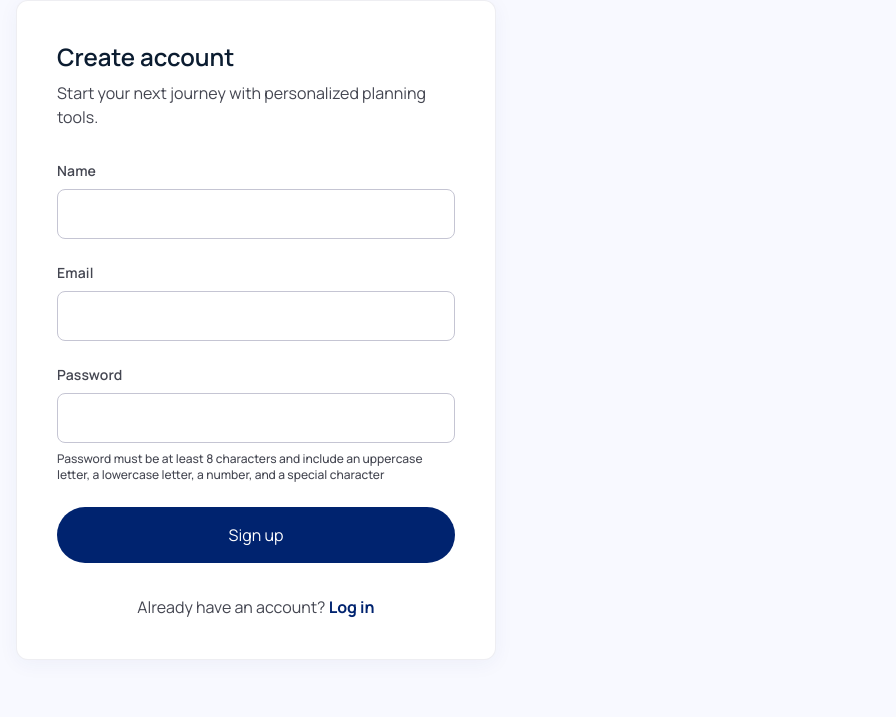
Test: RegisterPage › shows the server error message for a duplicate email
Type "Jane" into the field labelled "Name" at (256, 214), box 57,189 -> 455,239
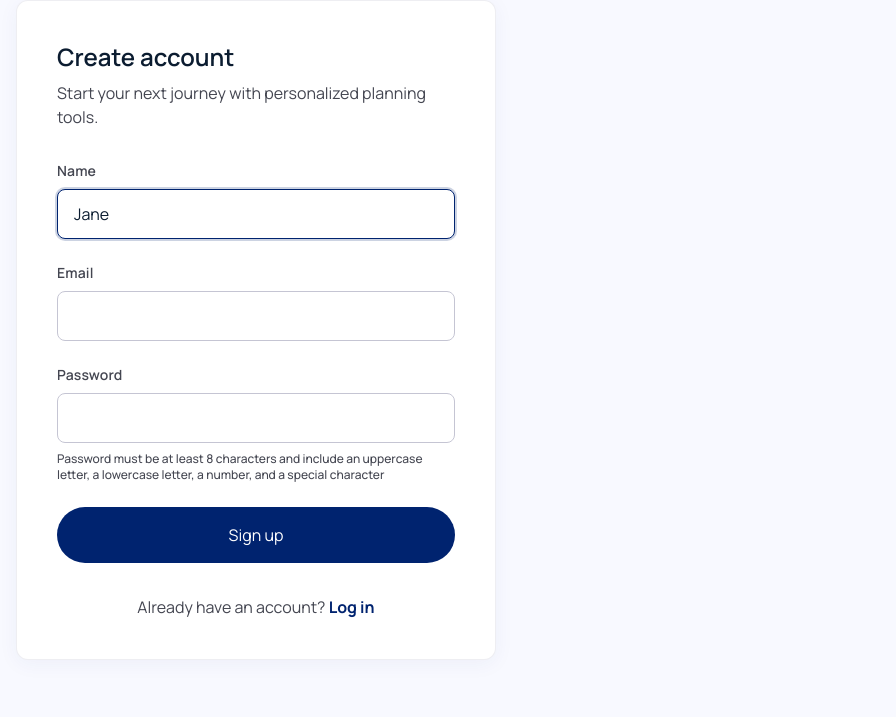
Type "taken@example.com" into the field labelled "Email" at (256, 316), box 57,291 -> 455,341
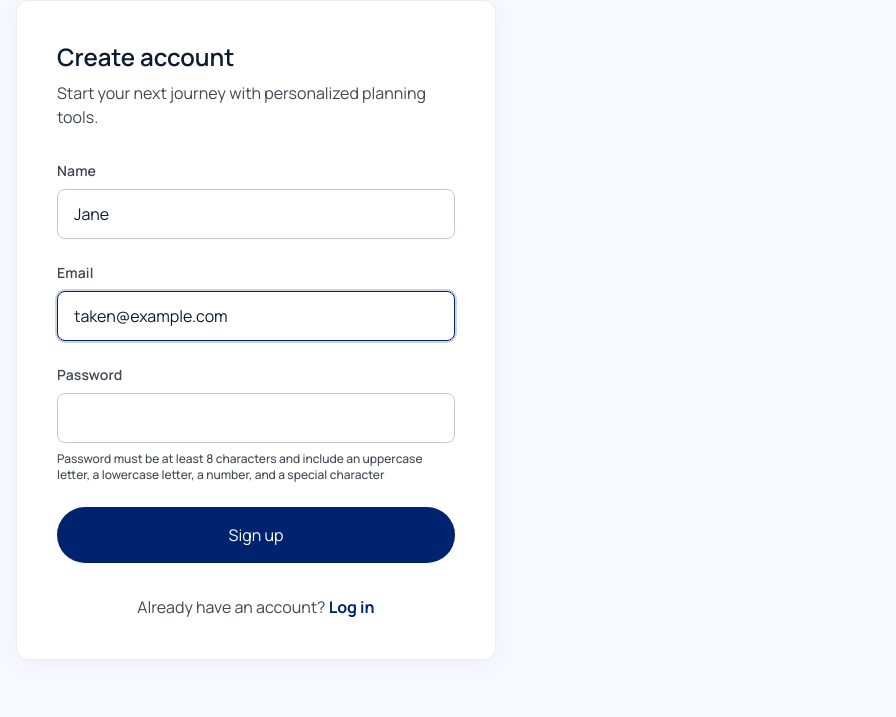
Type "Secret123!" into the password field labelled "Password" at (256, 418), box 57,393 -> 455,443
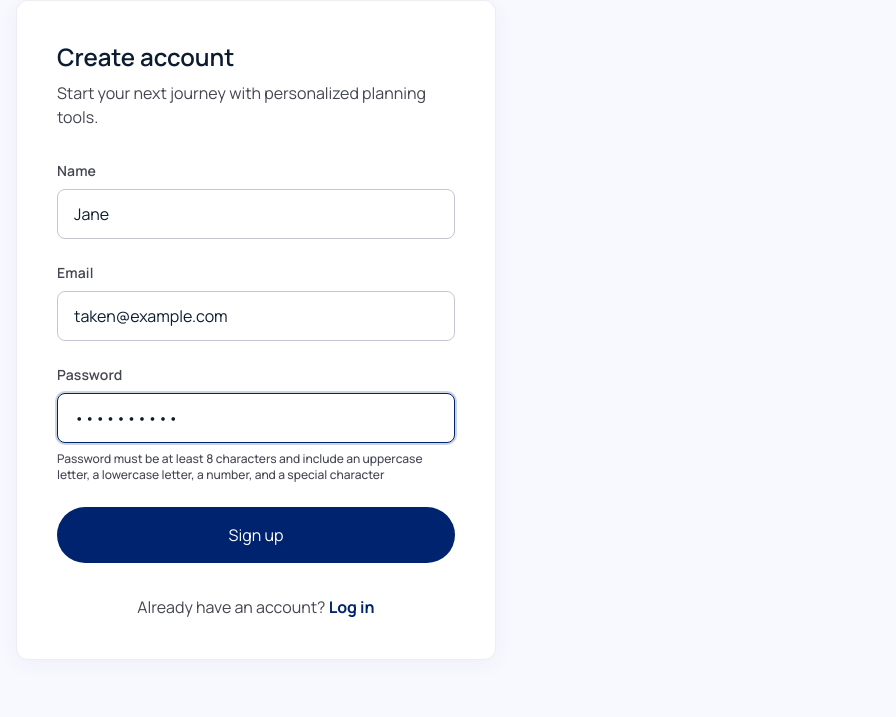
Click the button "Sign up" at (256, 535), box 57,507 -> 455,563
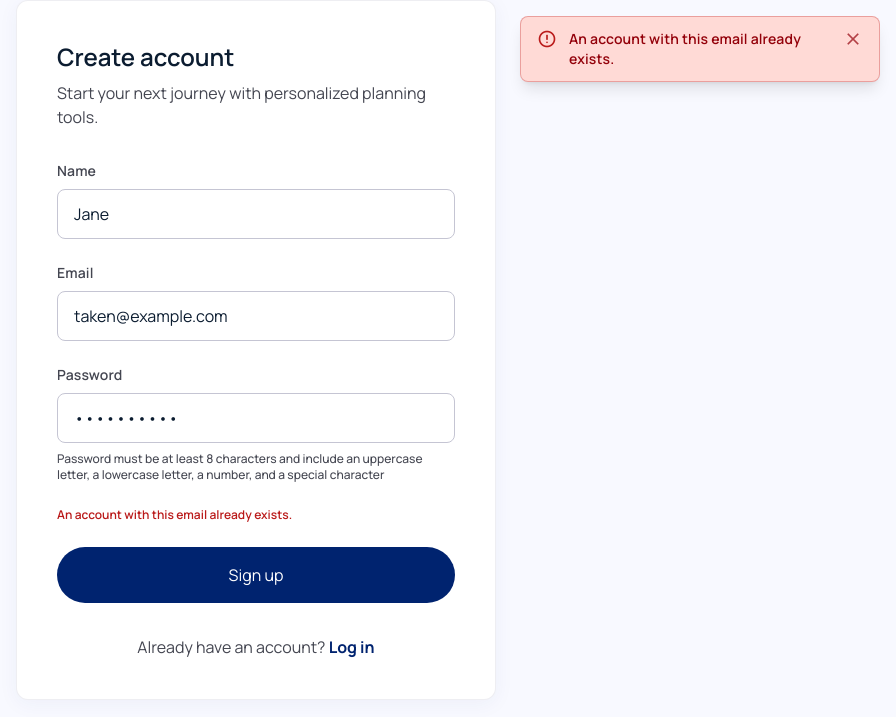
Expected: the 2nd text "An account with this email already exists." is shown, 57,506 -> 292,523
